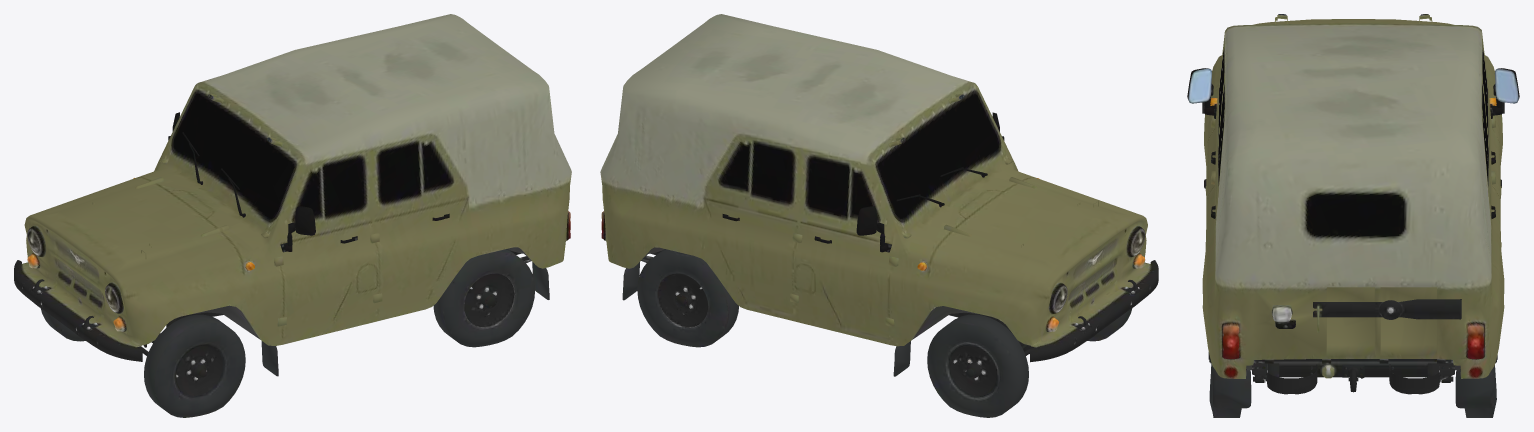
The model's file is uaz_001.glb.
3 renders of one model, left to right at view 1: azimuth 30°, elevation 25°; view 2: azimuth 150°, elevation 25°; view 3: azimuth 270°, elevation 25°, orthographic. The views are drawn at different scales.
Parts seen in each view (by area): view 1: Object_2, Object_3; view 2: Object_2, Object_3; view 3: Object_2, Object_3.
Boxes of the visible parts, <box> form: Object_2: <box>14,14,571,417</box>; Object_3: <box>168,93,549,376</box>; Object_2: <box>600,14,1158,417</box>; Object_3: <box>622,93,1004,376</box>; Object_2: <box>1202,19,1504,417</box>; Object_3: <box>1187,14,1519,408</box>.
Size of the model in its own units: 3859 by 1883 by 1943.
Materials: 1 (1 with a texture image).
